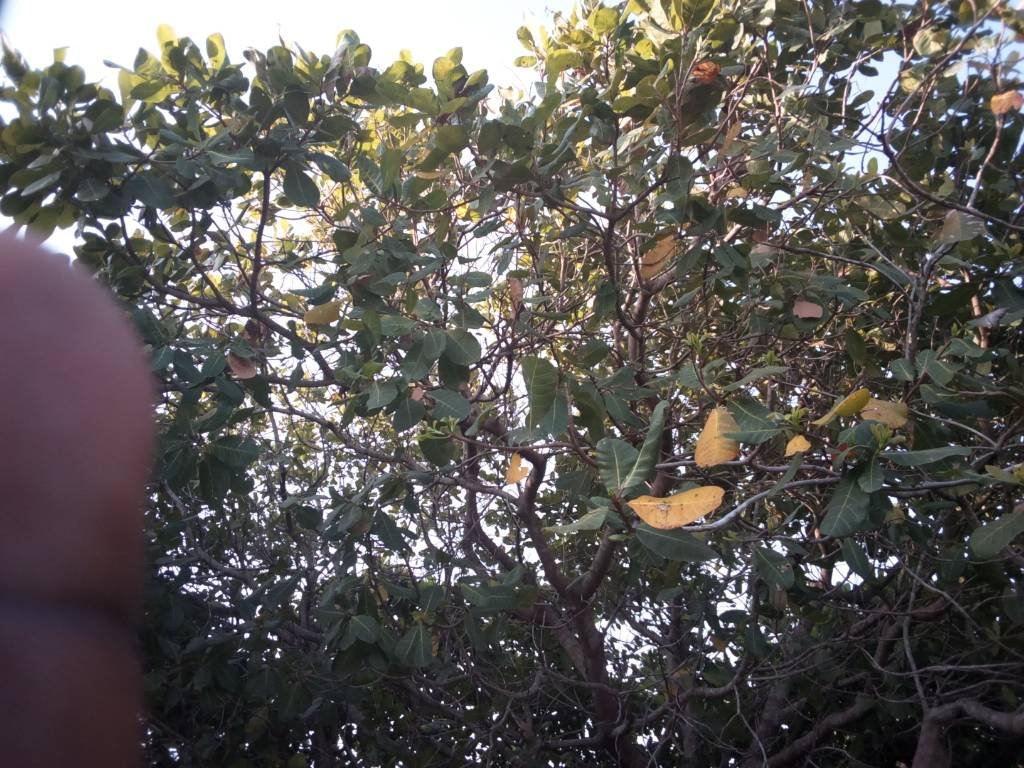Bactériose: (624, 486, 723, 529)
